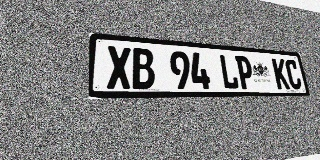4: (189, 52, 211, 89)
9: (169, 51, 192, 89)
B: (131, 48, 155, 89)
C: (284, 59, 303, 89)
K: (271, 58, 290, 89)
L: (219, 54, 239, 89)
P: (235, 55, 255, 89)
X: (107, 46, 132, 89)
